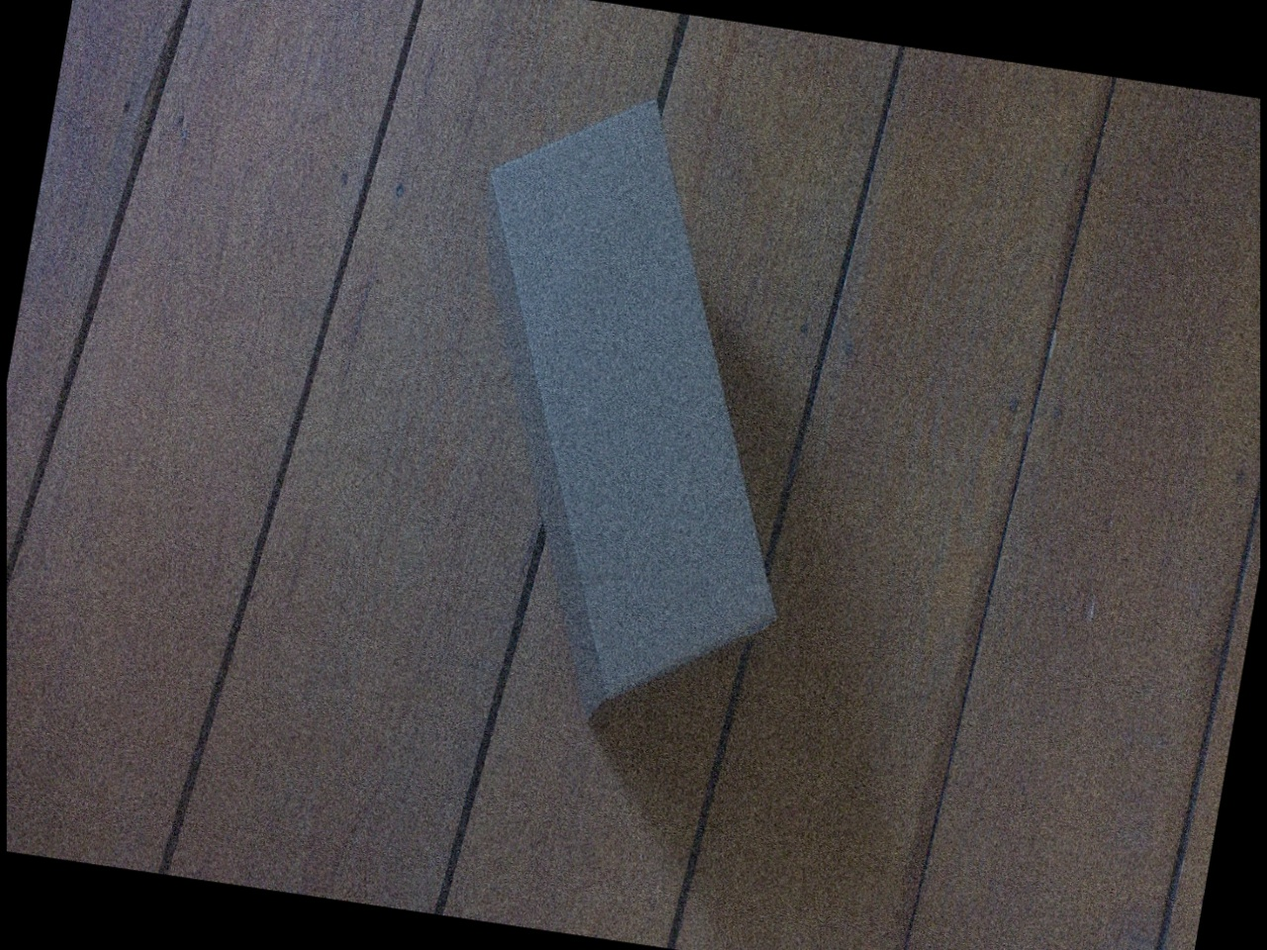good-parcel: (476, 97, 796, 742)
